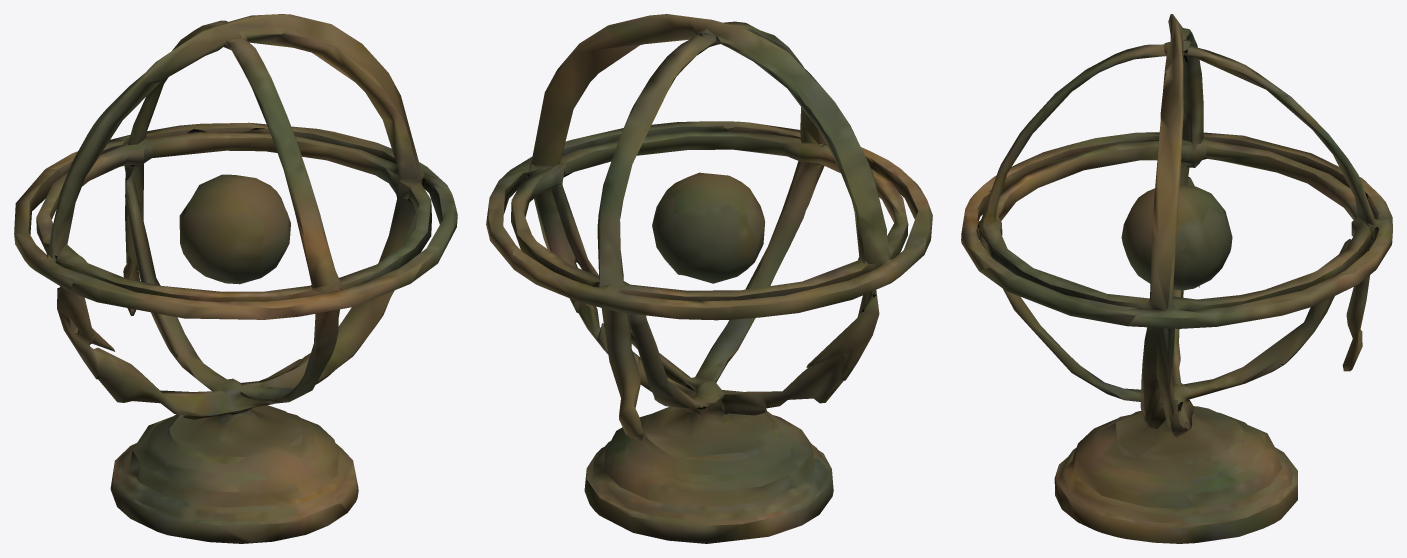
Rendered from weathered-bronze-armillary-v002.glb.
The picture shows the model from 3 angles, left to right: view 1: azimuth 30°, elevation 25°; view 2: azimuth 150°, elevation 25°; view 3: azimuth 270°, elevation 25°; orthographic projection. The views are drawn at different scales.
Parts seen in each view (by area): view 1: weathered-bronze-armillary; view 2: weathered-bronze-armillary; view 3: weathered-bronze-armillary.
Part boxes in pixels (box(x1,y1,x2,y2)): weathered-bronze-armillary: box(14, 14, 457, 543); weathered-bronze-armillary: box(486, 14, 932, 543); weathered-bronze-armillary: box(961, 14, 1392, 543).
Bounding box in the file's own units: 1.09 × 1.26 × 1.07.
Materials: 1 (1 with a texture image).
